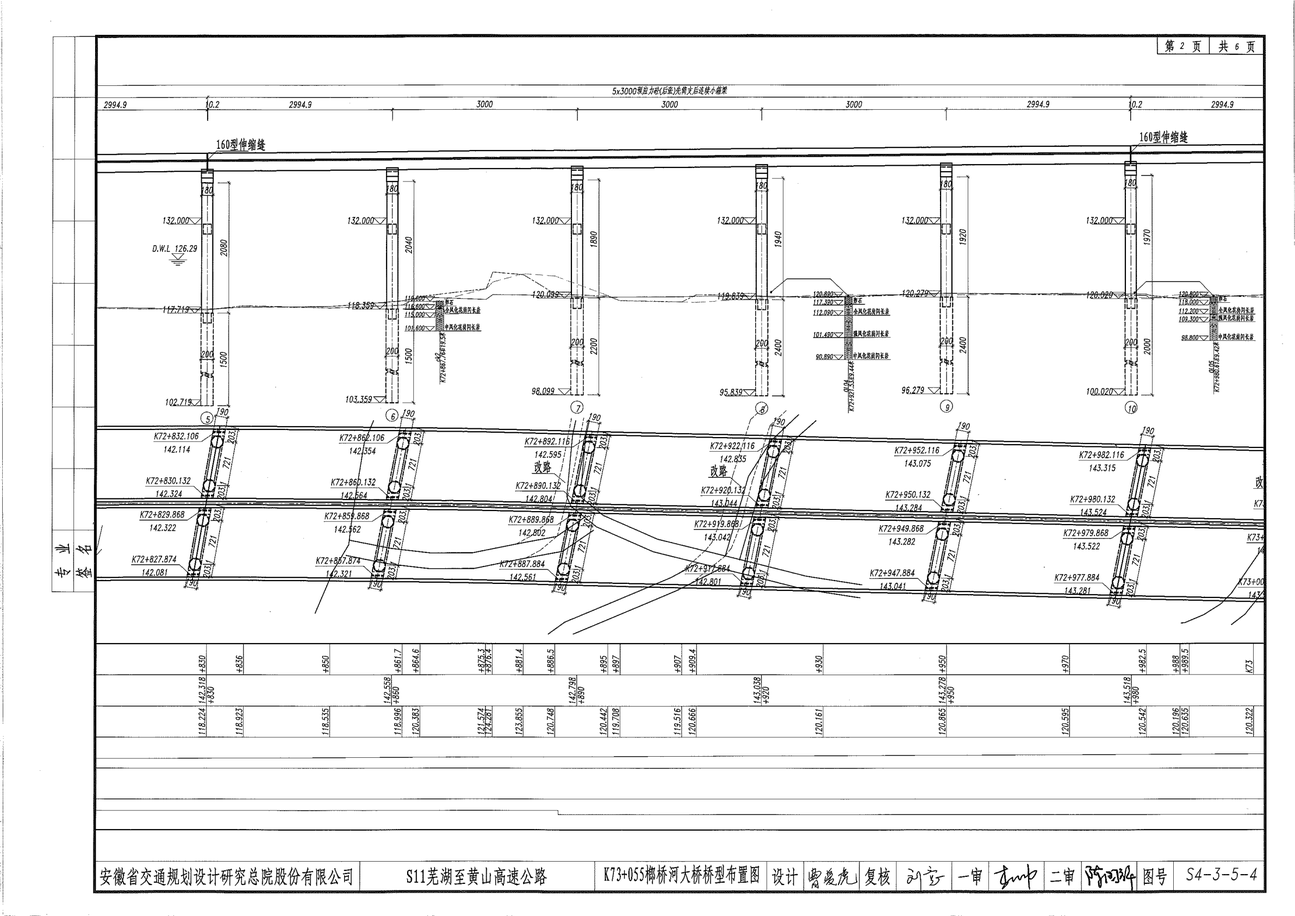A: (92, 70, 1268, 428)
